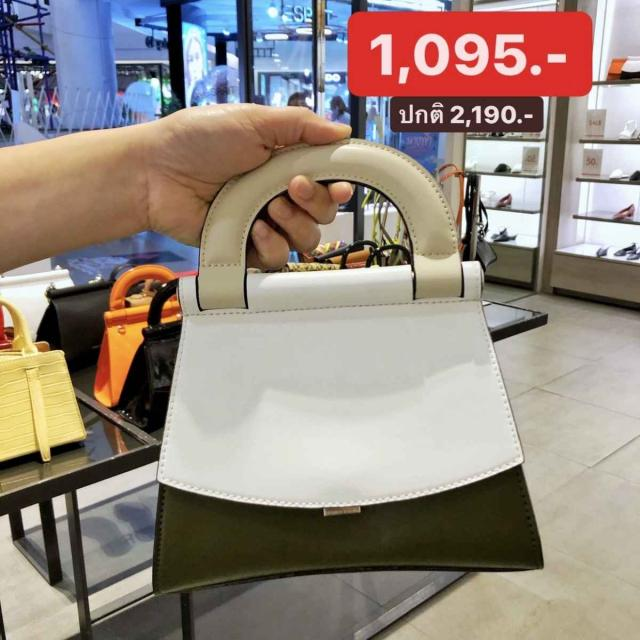Handbag: (141, 135, 546, 590)
